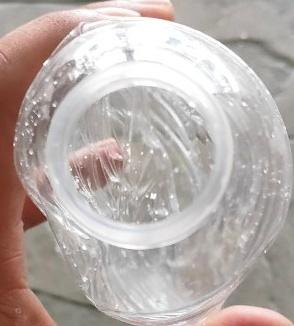plastic_bottle: (15, 15, 294, 326)
